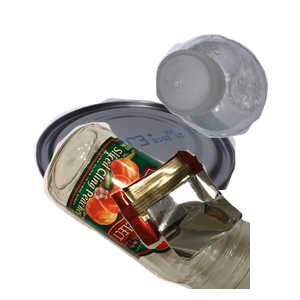glass: (41, 120, 281, 300)
metal: (16, 96, 244, 276)
plastic: (153, 31, 300, 161)
trash: (107, 148, 300, 300)
